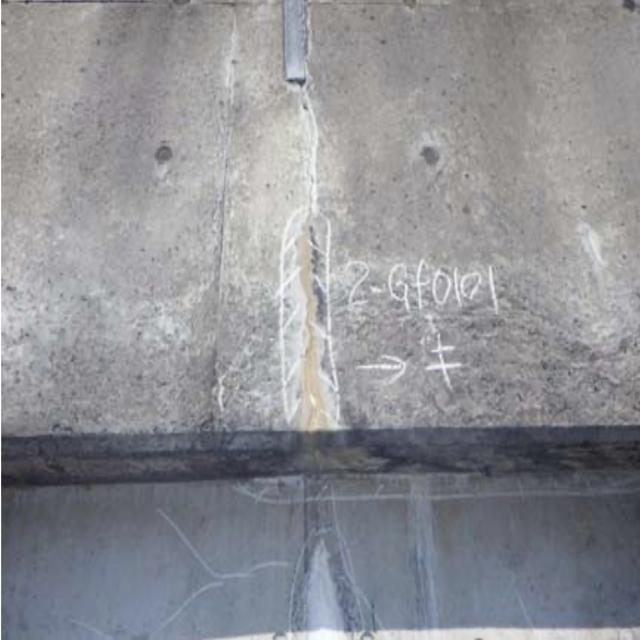freelime: (280, 81, 347, 420)
